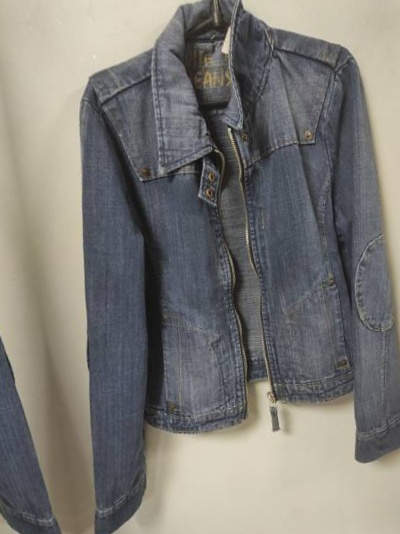Blazer: (20, 0, 400, 521), (0, 61, 53, 534), (385, 0, 400, 459)
